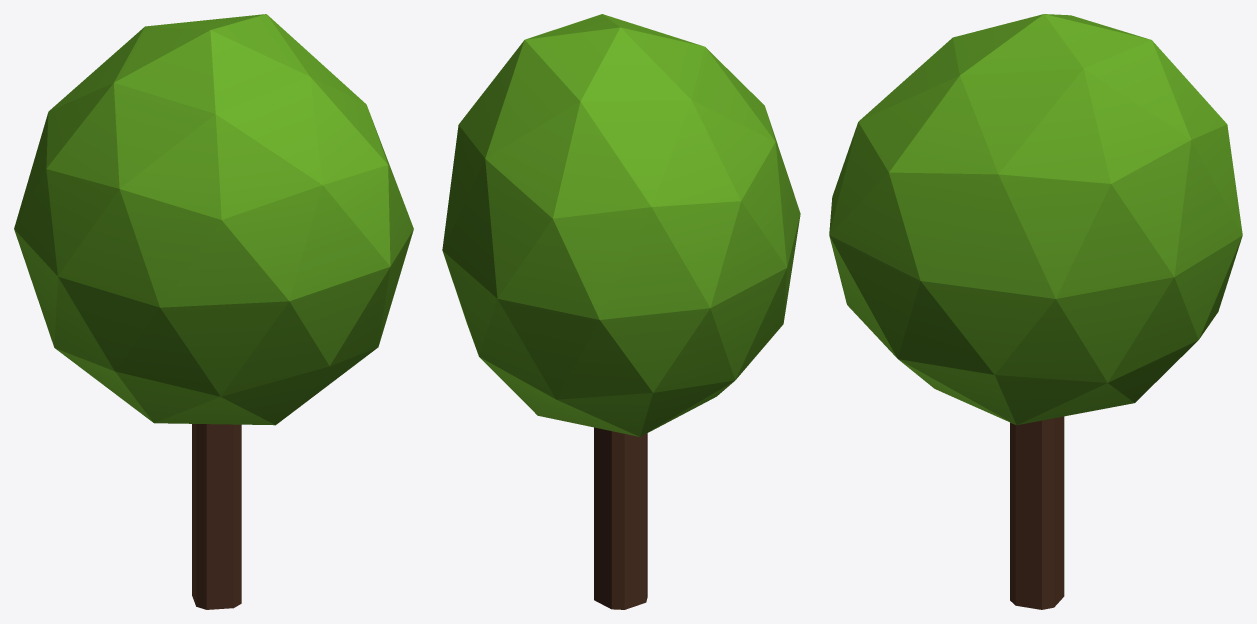
File: tree.fbx
The picture shows the model from 3 angles, left to right: view 1: azimuth 30°, elevation 25°; view 2: azimuth 150°, elevation 25°; view 3: azimuth 270°, elevation 25°; orthographic projection. The views are drawn at different scales.
Parts seen in each view (by area): view 1: Cube.433; view 2: Cube.433; view 3: Cube.433.
Boxes of the visible parts, x1=… form: Cube.433: x1=14, y1=14, x2=413, y2=609; Cube.433: x1=442, y1=14, x2=800, y2=609; Cube.433: x1=829, y1=14, x2=1242, y2=609.
Bounding box in the file's own units: 9.96 × 17.12 × 11.
1 material, 1 textured.
